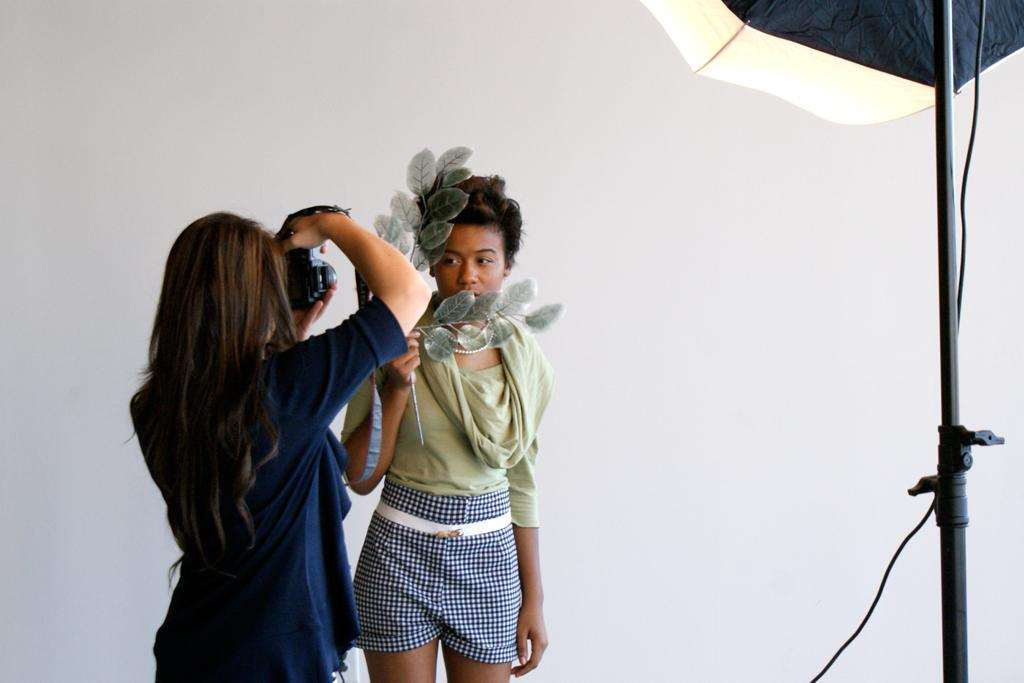face: (438, 222, 508, 310)
